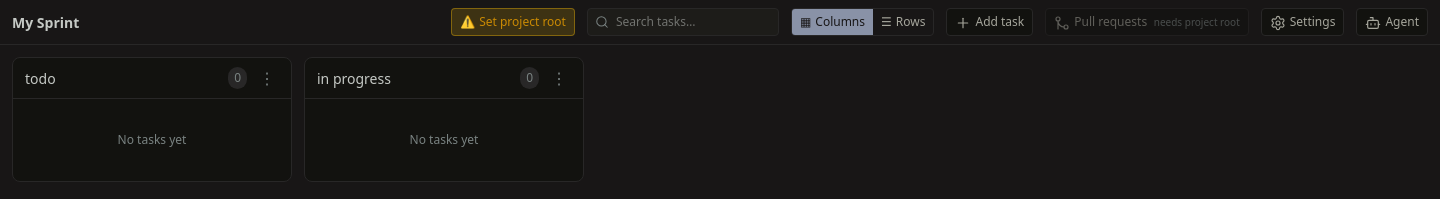
KanbanView — create-task flow › Cancel button closes the dialog without creating a task
The image size is (1440, 199).
Click the button with test id "kanban-add-task-button" at point(990, 22), box 946,8 -> 1033,36
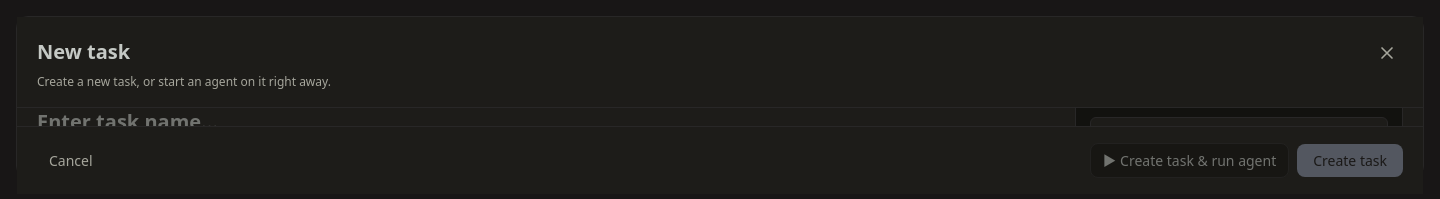
Click the button with test id "kanban-task-detail-cancel" at point(71, 160), box 37,144 -> 105,177
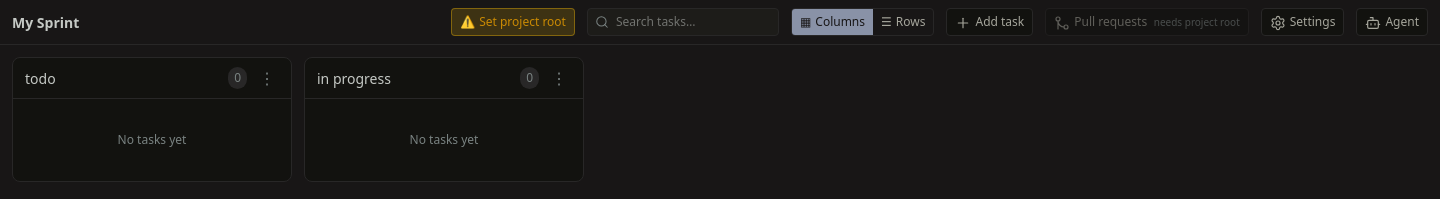
Check: the element with test id "kanban-task-detail-dialog" is gone
